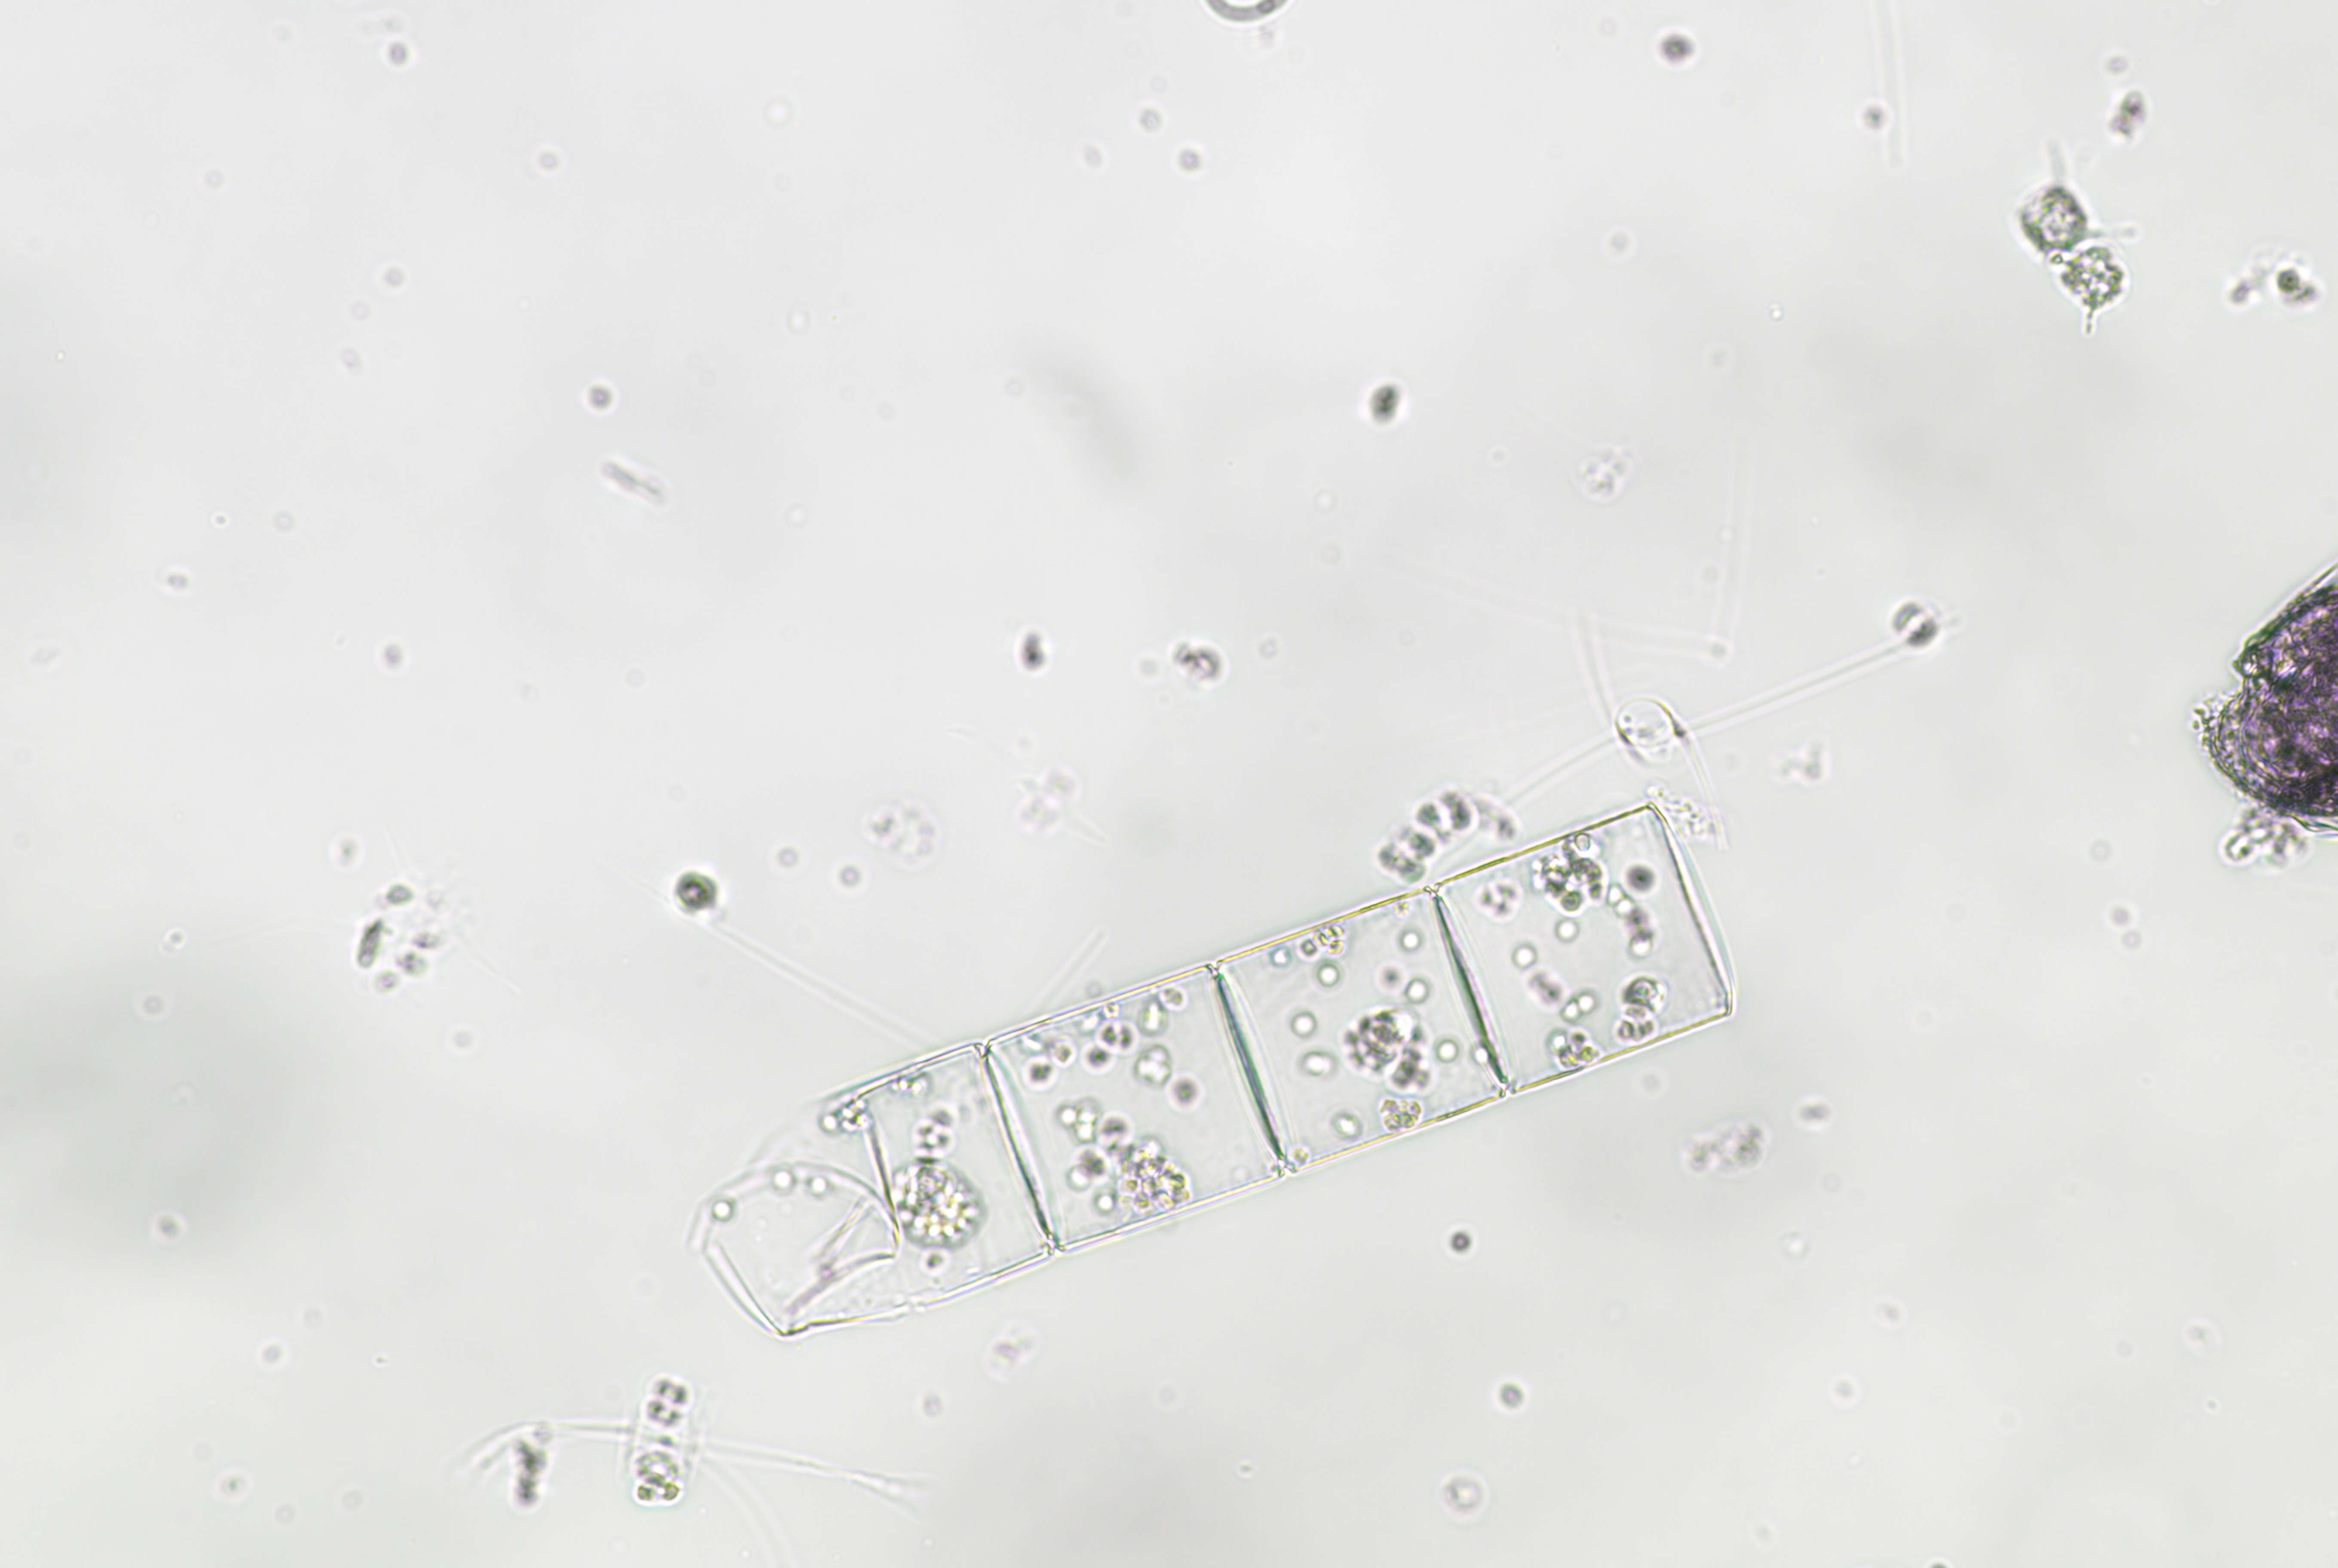chaetoceros: (1484, 583, 1879, 838)
guinardia flaccida: (865, 794, 1764, 1326)
